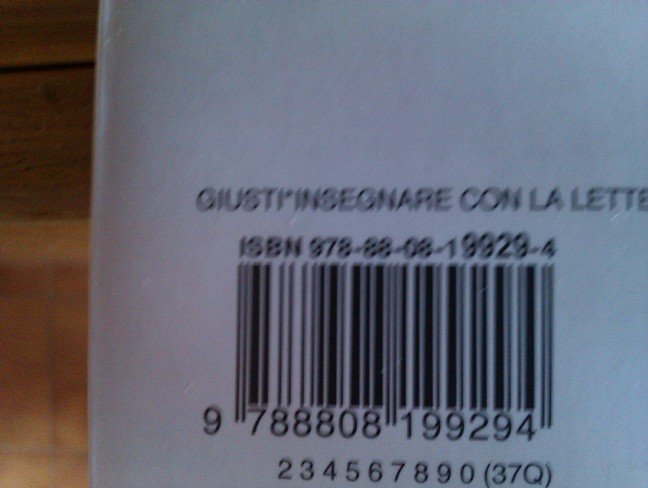detection: (188, 261, 569, 446)
